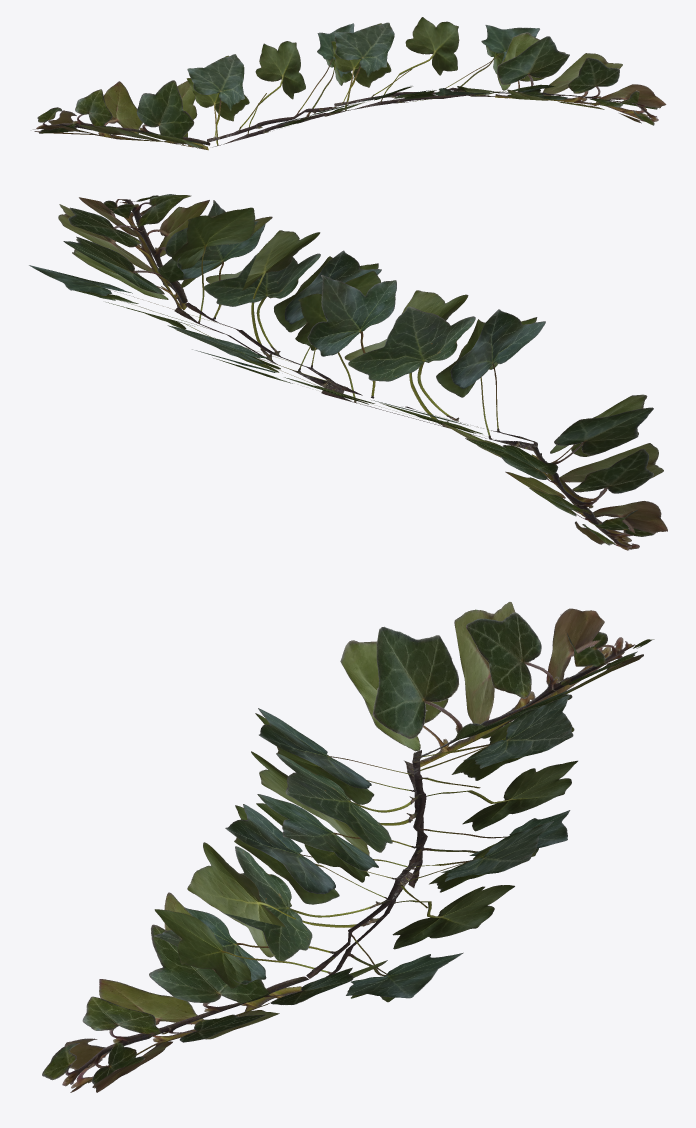
Rendered from stumbletwine_03.fbx.
The picture shows the model from 3 angles, top to bottom: view 1: azimuth 30°, elevation 25°; view 2: azimuth 150°, elevation 25°; view 3: azimuth 270°, elevation 25°; orthographic projection. The views are drawn at different scales.
Parts seen in each view (by area): view 1: stumbletwine_03; view 2: stumbletwine_03; view 3: stumbletwine_03.
Part boxes in pixels (left/top/right/bottom): stumbletwine_03: left=33, top=17, right=666, bottom=150; stumbletwine_03: left=29, top=194, right=667, bottom=550; stumbletwine_03: left=42, top=602, right=654, bottom=1092.
Bounding box in the file's own units: 39.7 × 69.79 × 7.45.
